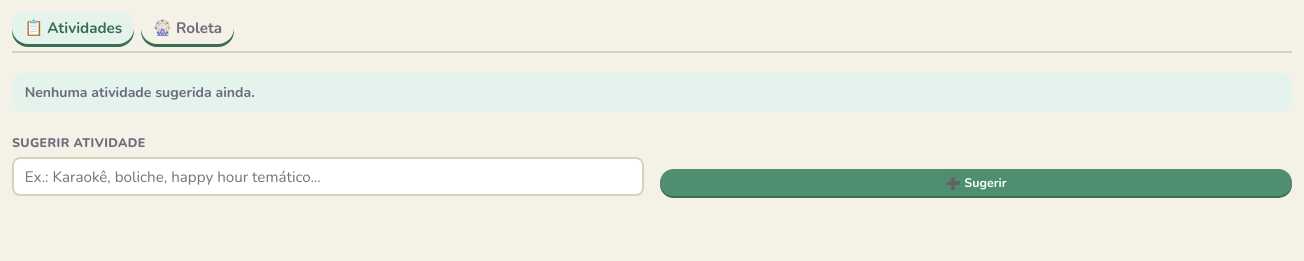
HappyHourPainel › pedido do usuário: "qualquer um pode adicionar uma nova atividade" - sugere e ela aparece na lista
The image size is (1304, 261).
Expected: the text "Nenhuma atividade sugerida ainda." is shown, [12,73,1292,112]
Type "Boliche" into the field labelled "Sugerir atividade" at (328, 177), box [12,157,644,196]
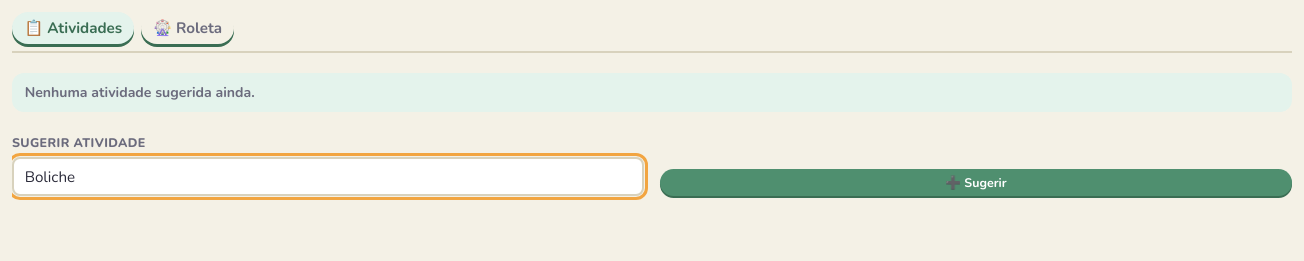
Click the button "➕ Sugerir" at (976, 183), box [660,169,1292,196]
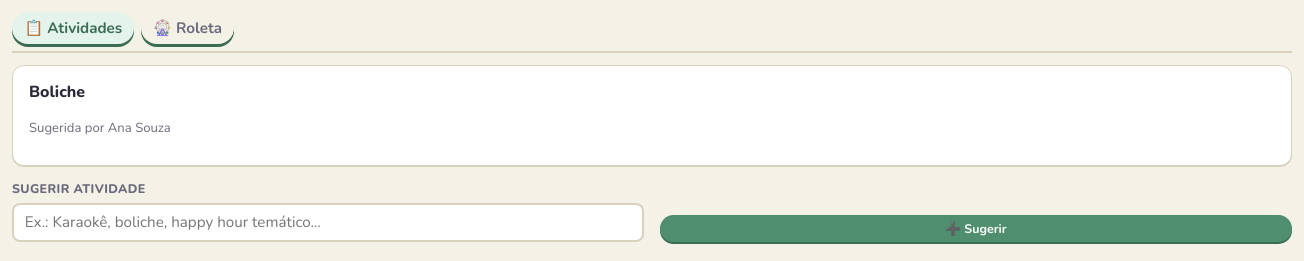
Expected: the text "Boliche" is shown, [29,80,85,105]
